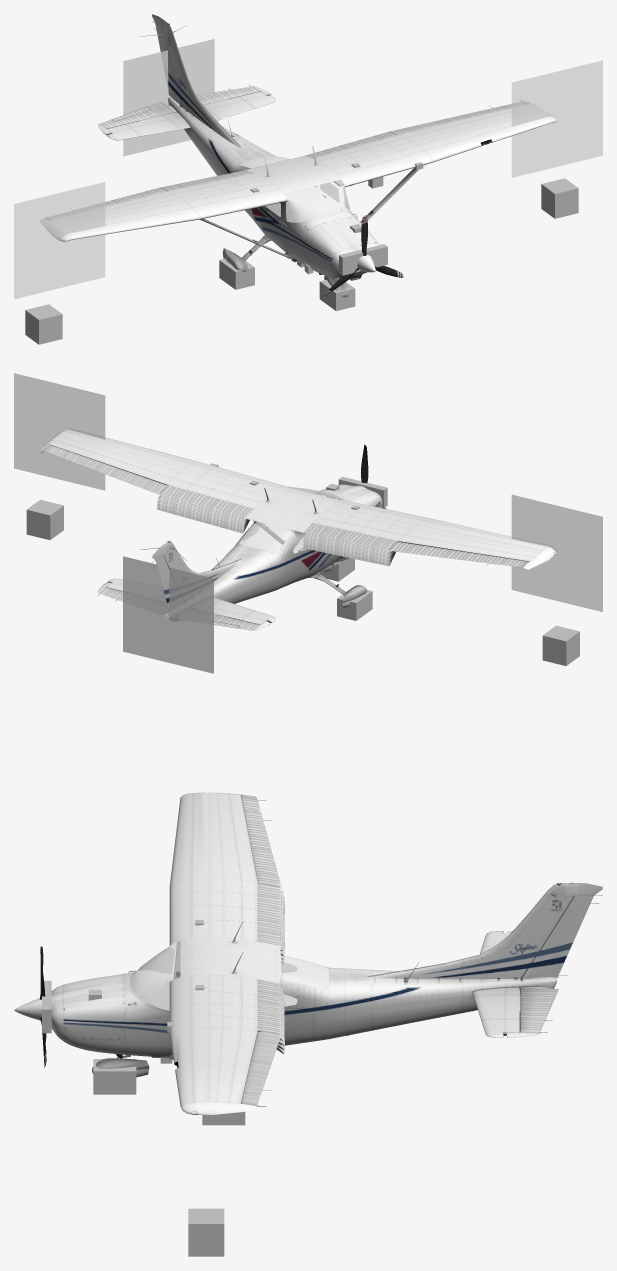
Rendered from custom_callsign_2.gltf.
The picture shows the model from 3 angles, top to bottom: view 1: azimuth 30°, elevation 25°; view 2: azimuth 150°, elevation 25°; view 3: azimuth 270°, elevation 25°; orthographic projection. The views are drawn at different scales.
Visible parts, largest first — view 1: Exterior, XLive_2, Pose_flaps_0, XLive_3, XLive_0, Spin_0, XLive_1; view 2: Exterior, Pose_flaps_0, XLive_2, XLive_0, XLive_1, Pose_flaps_1, Pose_flaps_2, XLive_3, Pose_flaps_3, Pose_flaps_4; view 3: Exterior, Pose_flaps_0, XLive_3, XLive_1, XLive_0, XLive_2.
Part boxes in pixels (bbox=[...]): Exterior: bbox=[14, 22, 602, 344]; XLive_2: bbox=[98, 85, 270, 135]; Pose_flaps_0: bbox=[159, 131, 397, 191]; XLive_3: bbox=[152, 14, 180, 105]; XLive_0: bbox=[391, 101, 528, 134]; Spin_0: bbox=[324, 215, 403, 295]; XLive_1: bbox=[44, 188, 166, 220]; Exterior: bbox=[14, 373, 602, 673]; Pose_flaps_0: bbox=[158, 485, 398, 550]; XLive_2: bbox=[97, 583, 270, 630]; XLive_0: bbox=[41, 444, 166, 494]; XLive_1: bbox=[390, 542, 528, 568]; Pose_flaps_1: bbox=[157, 495, 393, 555]; Pose_flaps_2: bbox=[157, 499, 393, 559]; XLive_3: bbox=[152, 543, 183, 612]; Pose_flaps_3: bbox=[156, 503, 393, 563]; Pose_flaps_4: bbox=[156, 507, 395, 566]; Exterior: bbox=[14, 792, 574, 1256]; Pose_flaps_0: bbox=[257, 882, 281, 1034]; XLive_3: bbox=[521, 883, 602, 978]; XLive_1: bbox=[241, 796, 281, 886]; XLive_0: bbox=[240, 1032, 281, 1106]; XLive_2: bbox=[506, 931, 558, 1037].
Bounding box in the file's own units: 12.92 × 3.27 × 8.5.
Materials: 13 (8 with a texture image).
